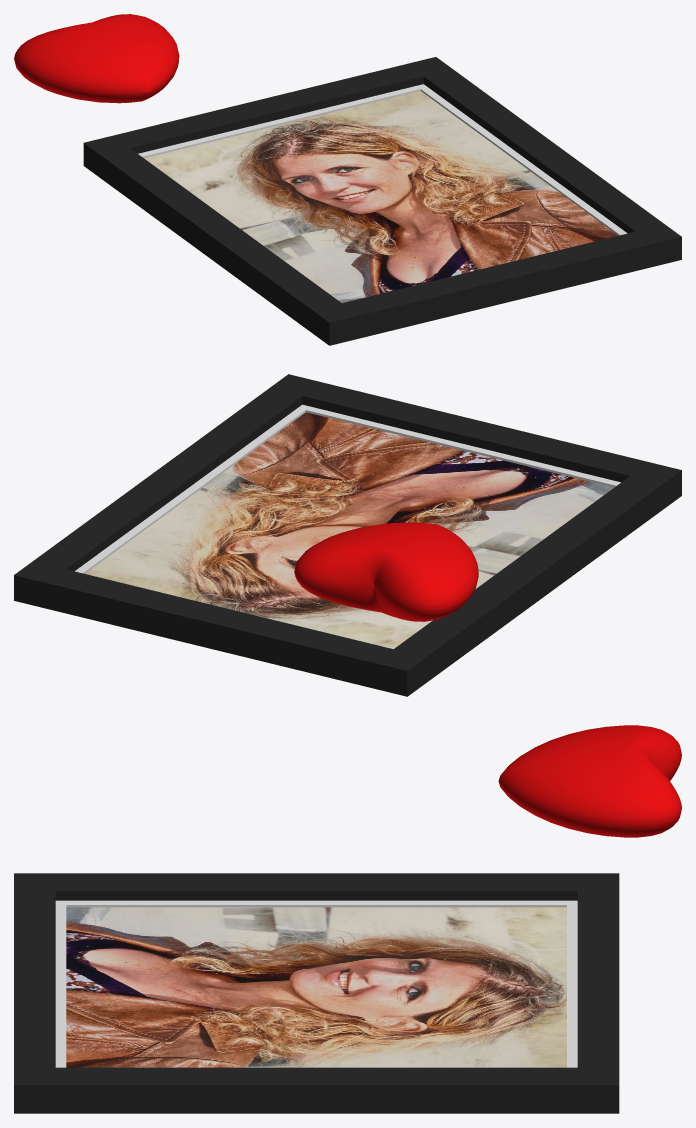
3 renders of one model, top to bottom at view 1: azimuth 30°, elevation 25°; view 2: azimuth 150°, elevation 25°; view 3: azimuth 270°, elevation 25°, orthographic. The views are drawn at different scales.
Visible parts, largest first — view 1: PhotoPlane.002, BuitenFrame, Hart, BinnenFrame; view 2: PhotoPlane.002, BuitenFrame, Hart, BinnenFrame; view 3: PhotoPlane.002, BuitenFrame, Hart, BinnenFrame.
Boxes of the visible parts, left/top/right/bottom form: PhotoPlane.002: left=144, top=91, right=617, bottom=302; BuitenFrame: left=83, top=57, right=681, bottom=345; Hart: left=14, top=14, right=179, bottom=103; BinnenFrame: left=138, top=84, right=627, bottom=235; PhotoPlane.002: left=85, top=412, right=613, bottom=648; BuitenFrame: left=14, top=374, right=681, bottom=696; Hart: left=294, top=522, right=478, bottom=621; BinnenFrame: left=75, top=404, right=620, bottom=573; PhotoPlane.002: left=66, top=907, right=566, bottom=1067; BuitenFrame: left=14, top=873, right=619, bottom=1113; Hart: left=498, top=725, right=681, bottom=837; BinnenFrame: left=55, top=900, right=577, bottom=1067.
Bounding box in the file's own units: 0.5563 × 0.1754 × 0.6401.
4 materials, 1 textured.
